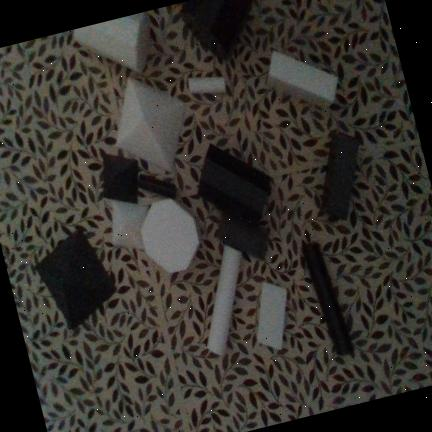Cilindro: (302, 242, 353, 353), (207, 243, 241, 354), (138, 173, 176, 198), (188, 76, 226, 93)
Paralelepipedo: (264, 49, 338, 111), (320, 131, 360, 220), (216, 206, 270, 261), (257, 281, 287, 349)
Piramide: (35, 230, 117, 327), (117, 77, 184, 171), (111, 199, 149, 249), (102, 153, 138, 204)
Prisma_hexagonal: (197, 142, 273, 225), (140, 197, 201, 273), (73, 12, 151, 71), (178, 0, 252, 58)
